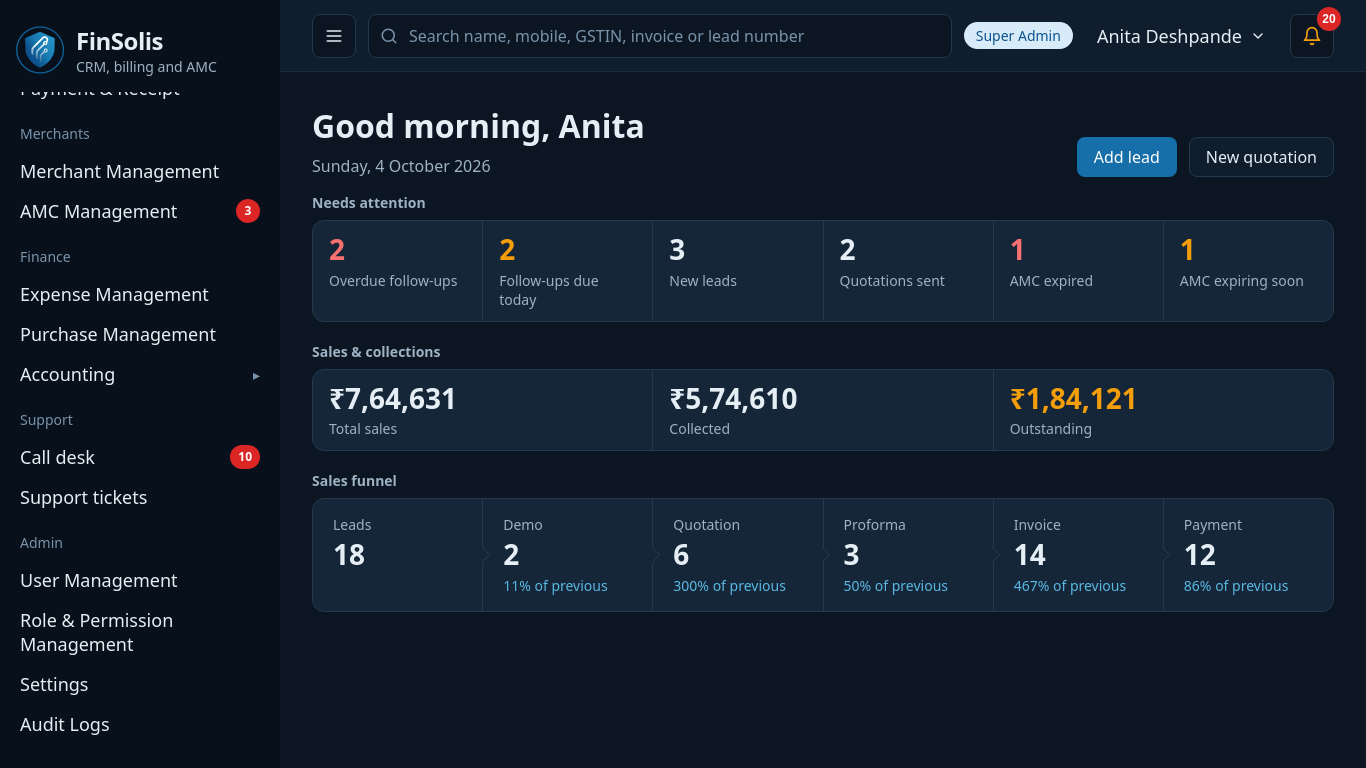
Test: App › shows the Super Admin role and opens admin-only modules
The image size is (1366, 768).
(page scrolled)
expect the text "Super Admin" is shown: met, box [964,22,1073,49]
Click the button "Audit Logs".
click(65, 724)  # box [8,704,272,744]
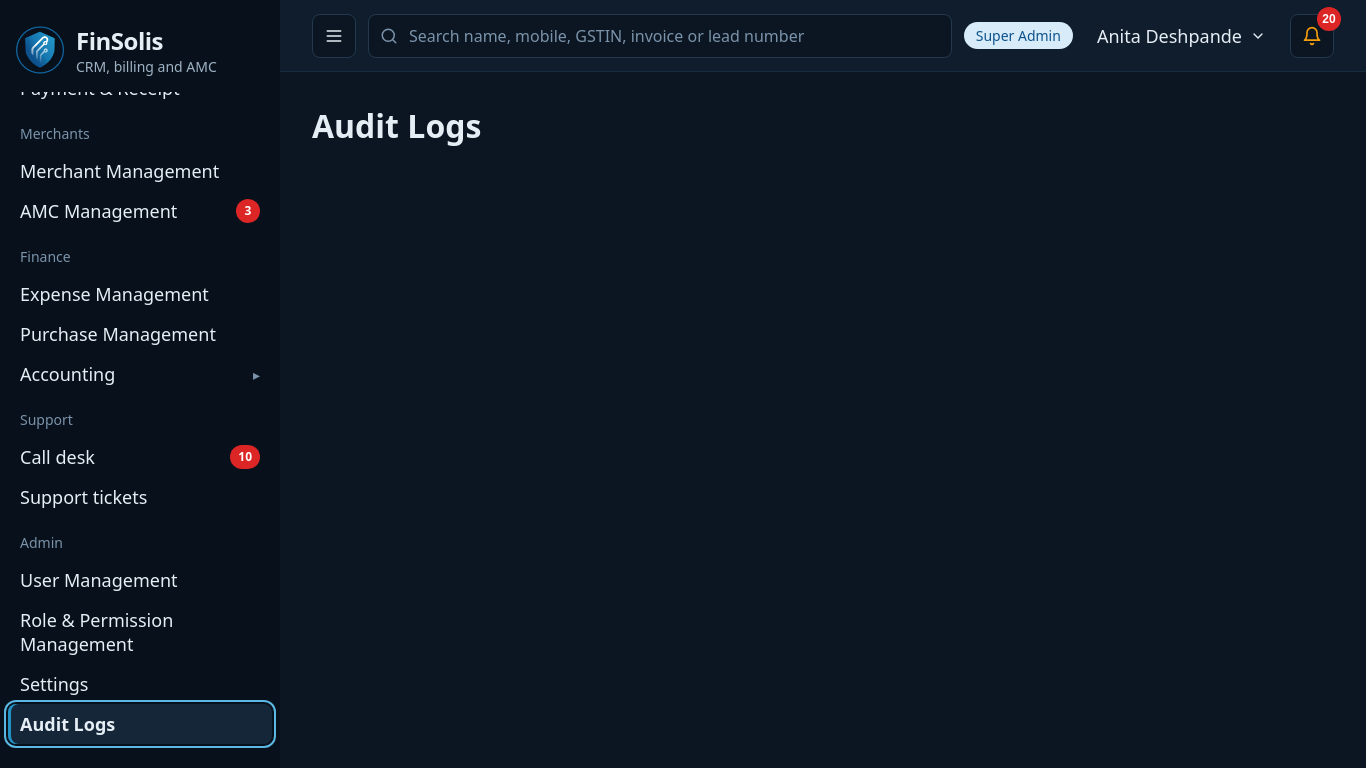
expect the heading "Audit Logs" is shown: met, box [312,104,481,147]
